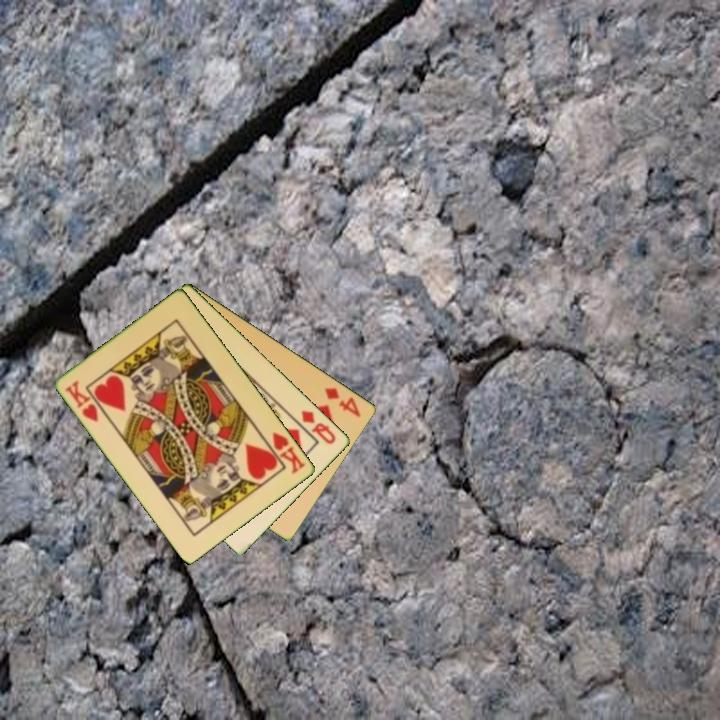4d: (321, 384, 364, 420)
Kh: (260, 428, 309, 477), (62, 377, 102, 425)
Qd: (298, 407, 339, 447)
